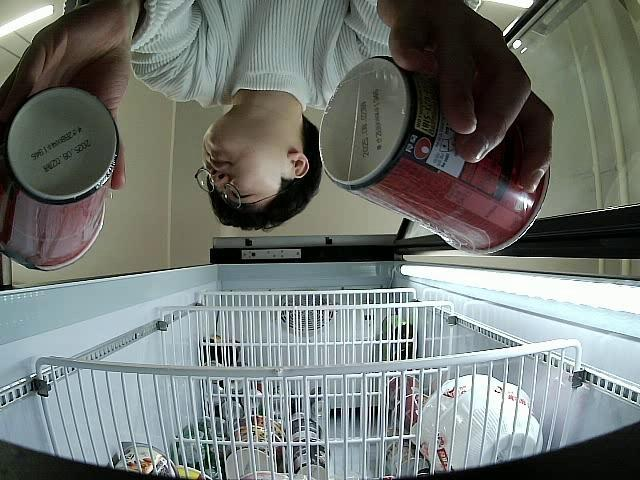02_shinRamen_S: (318, 55, 552, 257), (0, 83, 121, 272)
